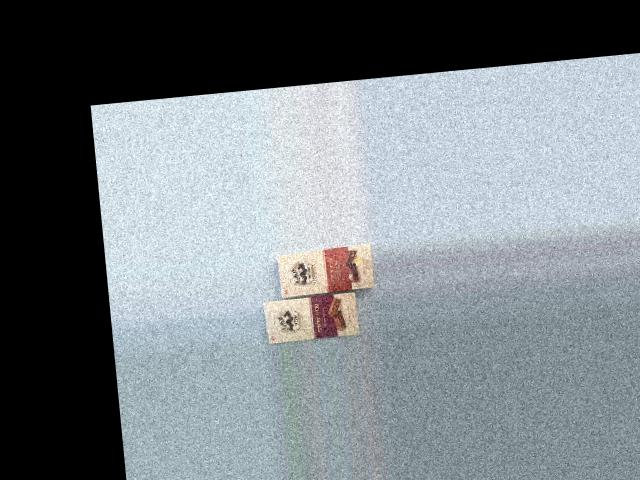chocolate: (272, 241, 377, 307)
